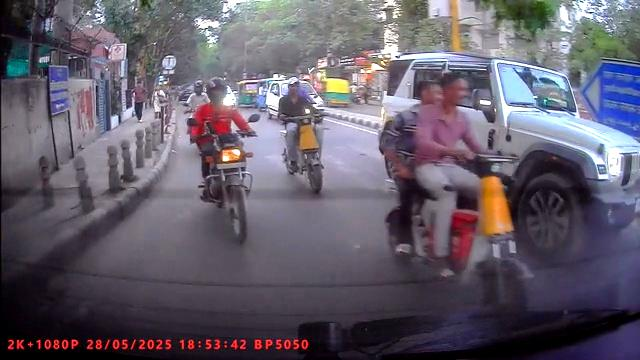motorcycle_with_helmet: (190, 77, 261, 244)
motorcycle_without_helmet: (377, 67, 537, 311), (277, 76, 331, 198)
